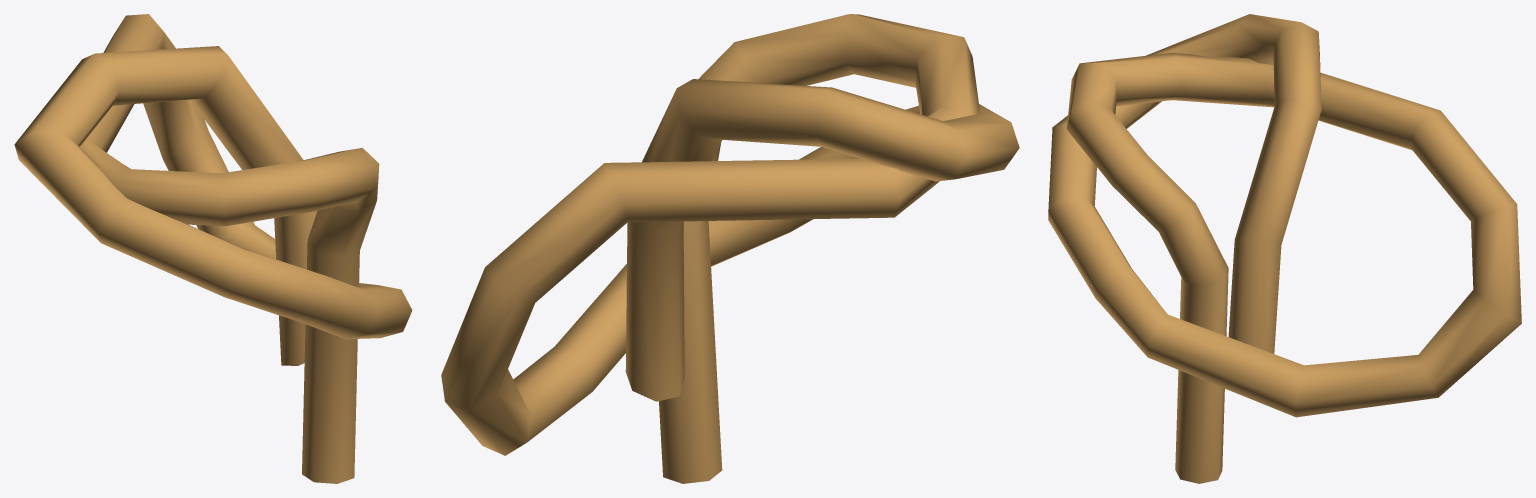
Rendered from Rope01.fbx.
3 renders of one model, left to right at view 1: azimuth 30°, elevation 25°; view 2: azimuth 150°, elevation 25°; view 3: azimuth 270°, elevation 25°, orthographic. The views are drawn at different scales.
Visible parts, largest first — view 1: Rope; view 2: Rope; view 3: Rope.
Boxes of the visible parts, bbox=[...] form: Rope: bbox=[14, 14, 412, 483]; Rope: bbox=[441, 14, 1019, 483]; Rope: bbox=[1048, 14, 1521, 483].
Bounding box in the file's own units: 14.97 × 17.13 × 19.6.
